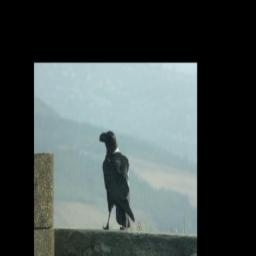Crow: (98, 129, 135, 231)
